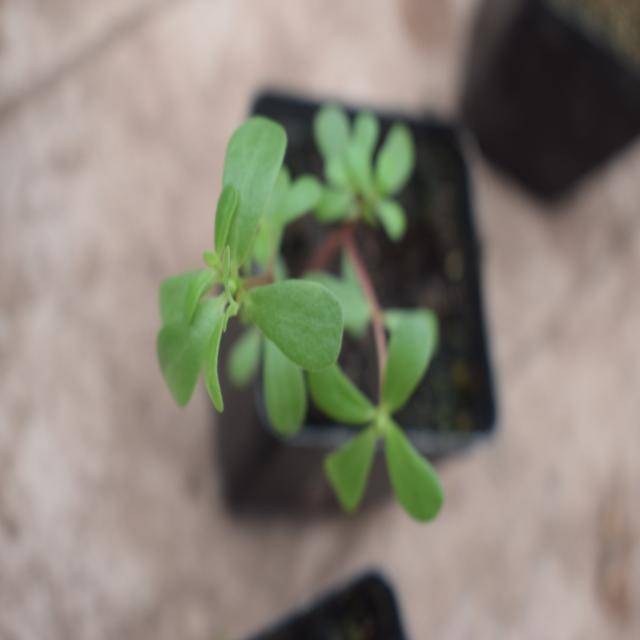purslane: (150, 106, 473, 515)
